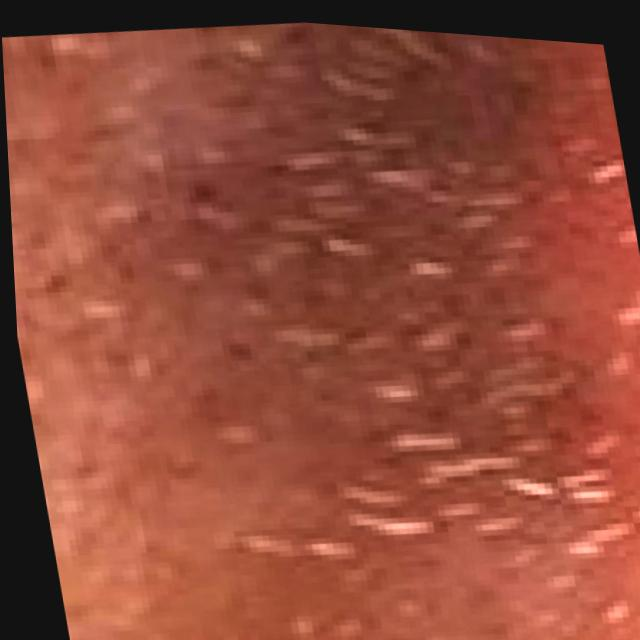whitehead: (26, 17, 640, 640)
